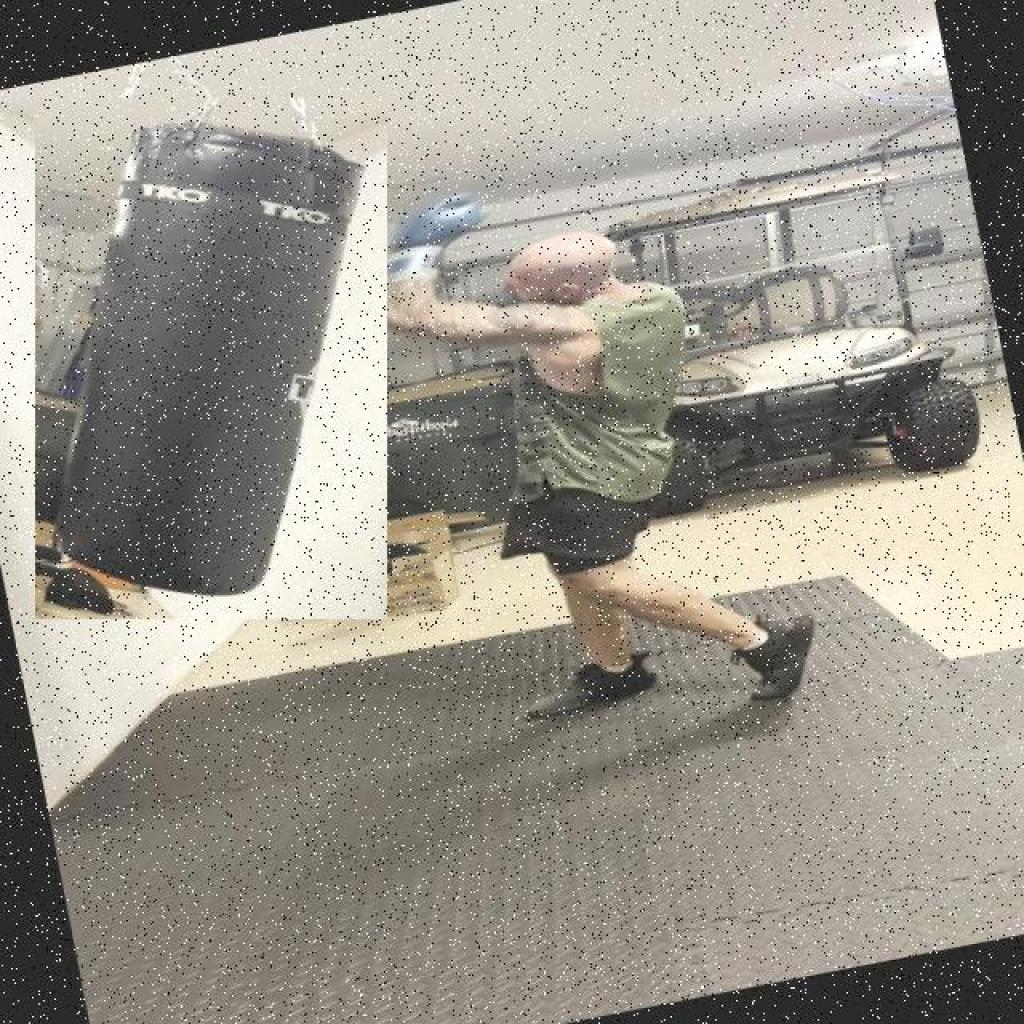bag: (36, 98, 386, 619)
uppercut: (338, 146, 714, 426)
